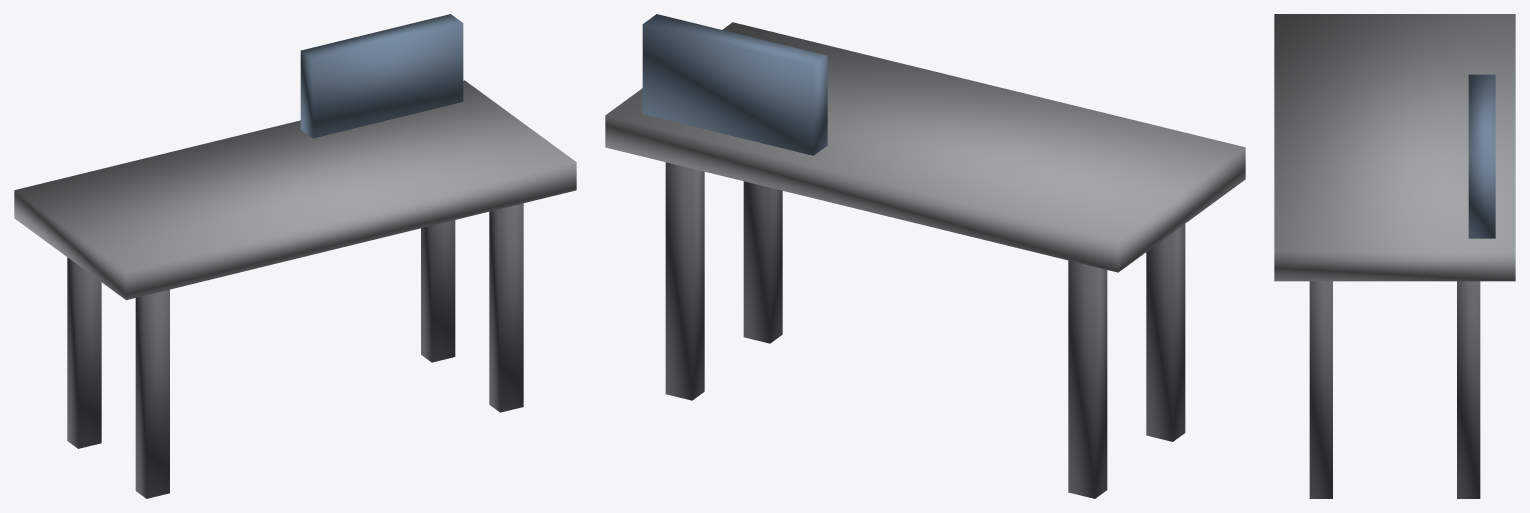
Rendered from welding_table__wide.glb.
The picture shows the model from 3 angles, left to right: view 1: azimuth 30°, elevation 25°; view 2: azimuth 150°, elevation 25°; view 3: azimuth 270°, elevation 25°; orthographic projection. The views are drawn at different scales.
Parts seen in each view (by area): view 1: world; view 2: world; view 3: world.
Boxes of the visible parts, x1,y1,x2,y2 form: world: [14, 14, 576, 498]; world: [605, 14, 1245, 498]; world: [1274, 14, 1515, 498].
Bounding box in the file's own units: 1.67 × 1.16 × 0.72.
